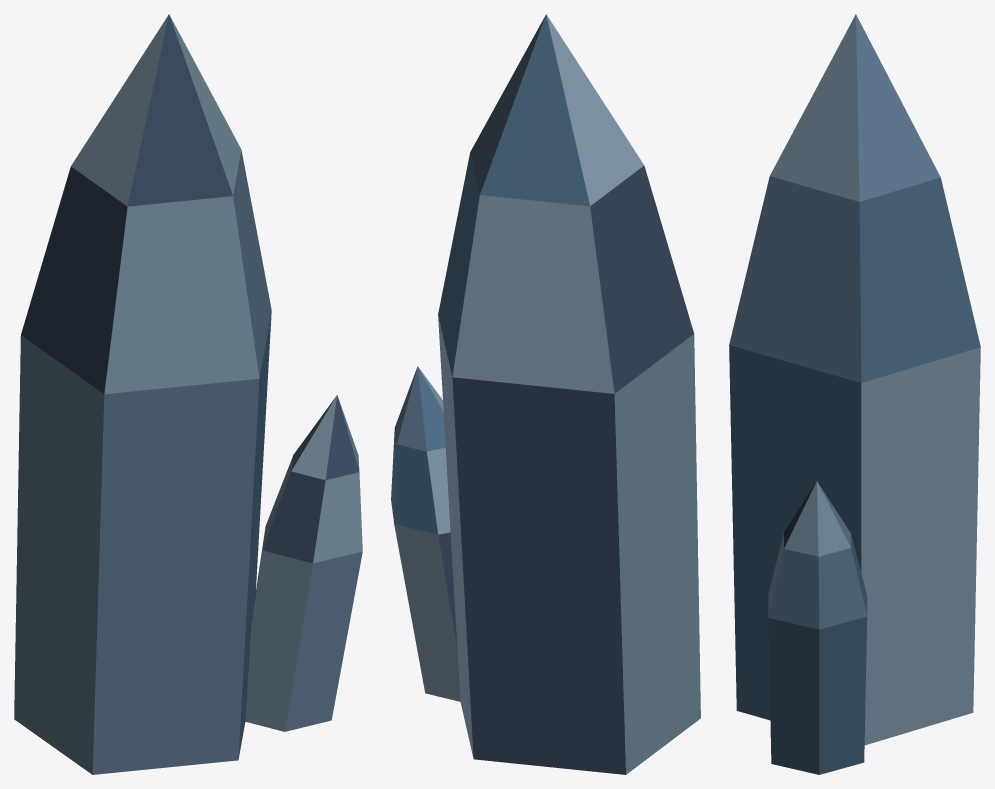
File: prism.glb
The picture shows the model from 3 angles, left to right: view 1: azimuth 30°, elevation 25°; view 2: azimuth 150°, elevation 25°; view 3: azimuth 270°, elevation 25°; orthographic projection.
Visible parts, largest first — view 1: prism; view 2: prism; view 3: prism.
Boxes of the visible parts, x1,y1,x2,y2 form: prism: [14, 14, 362, 774]; prism: [391, 14, 700, 774]; prism: [729, 14, 980, 774].
Size of the model in its own units: 2.12 by 4.9 by 1.61.
